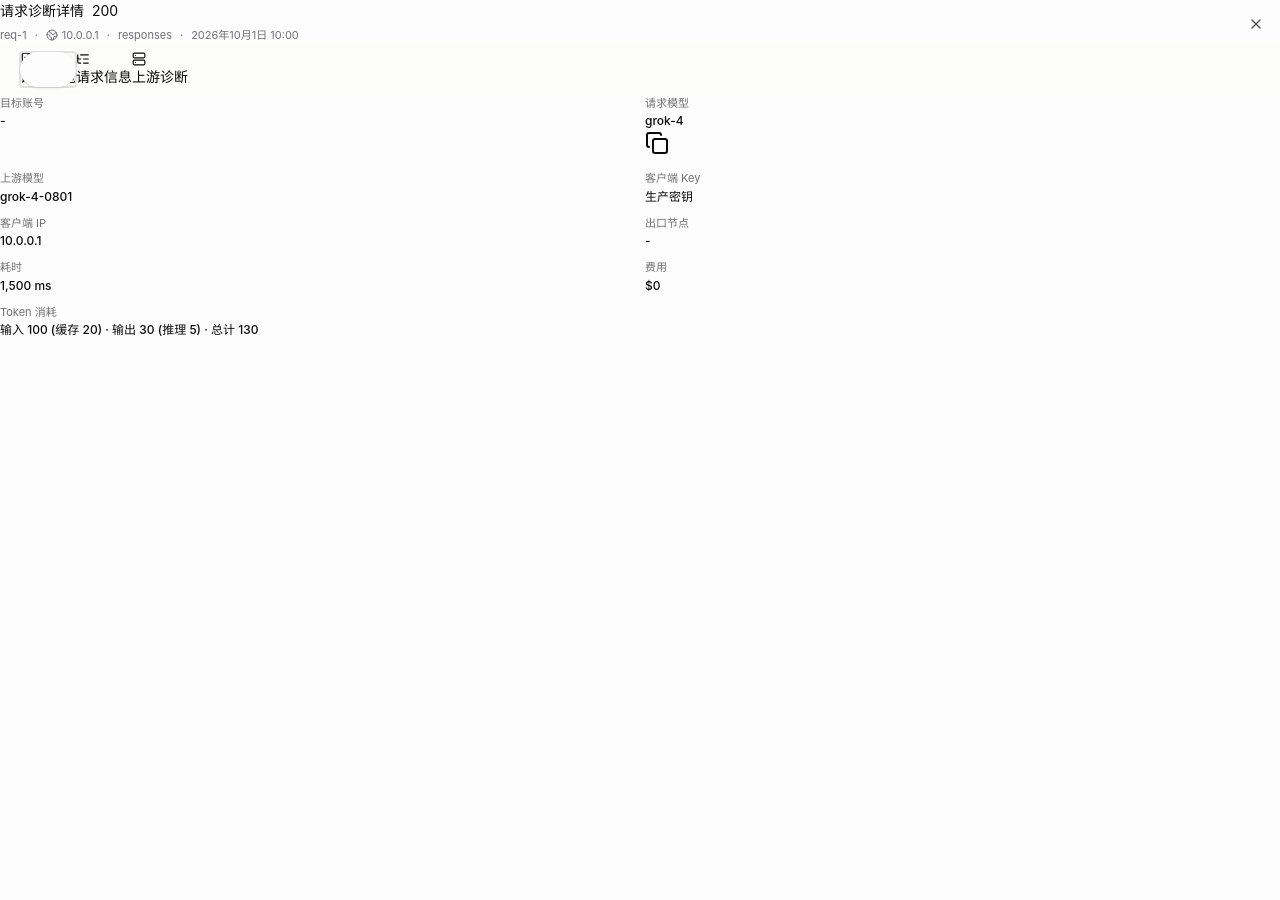
Test case: RequestAuditDetailDialog 请求元数据与上游尝试 › 请求元数据标签页展示路径、方法并支持无元数据空态
Click the tab "请求信息" at (104, 69), box [76,52,132,86]
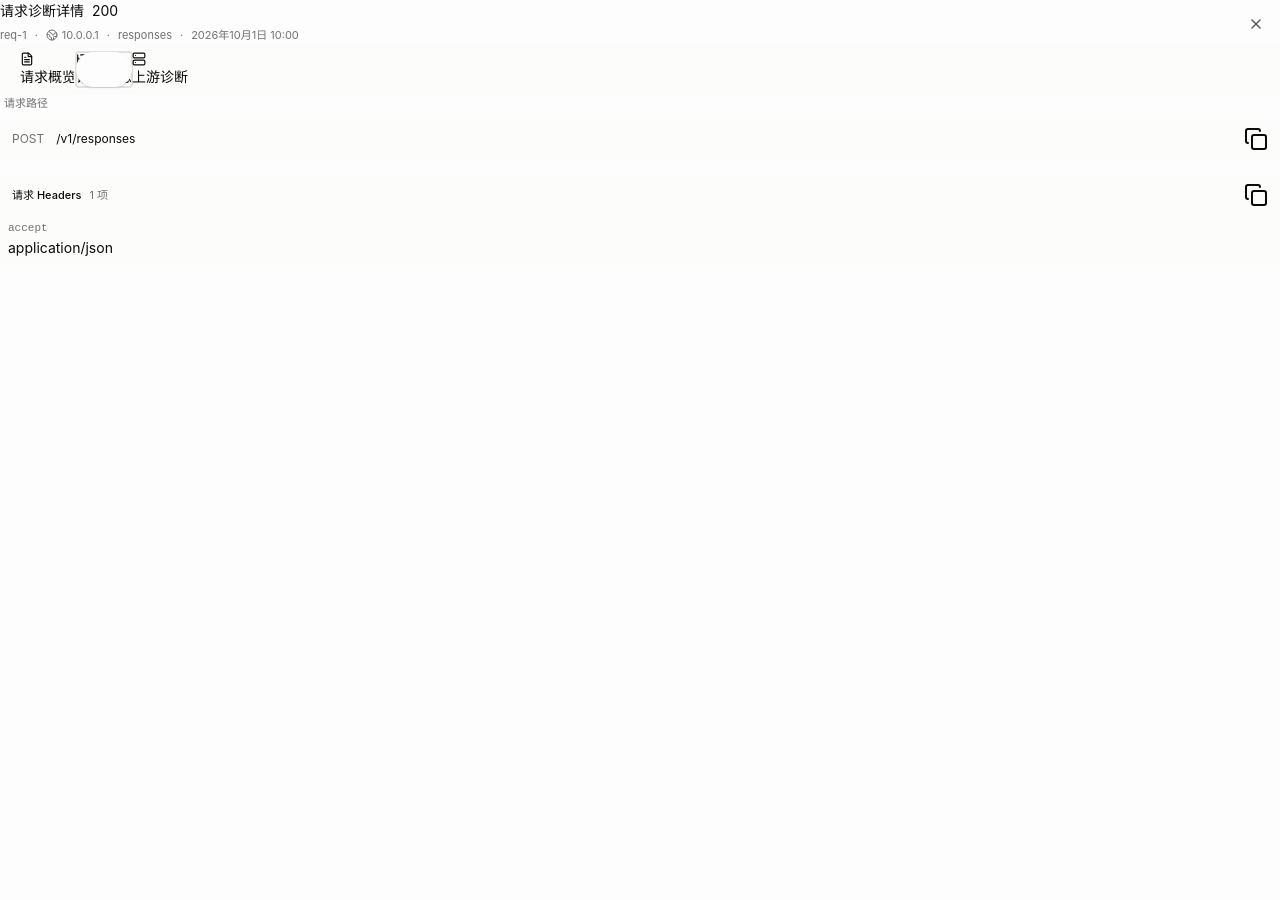
Expected: the text "/v1/responses" is shown, [56,131,135,146]
Expected: the text "POST" is shown, [12,131,44,147]
Expected: the text "请求 Headers" is shown, [12,187,81,203]
